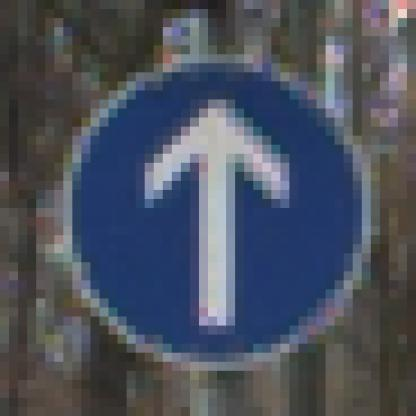straight: (45, 45, 389, 380)
